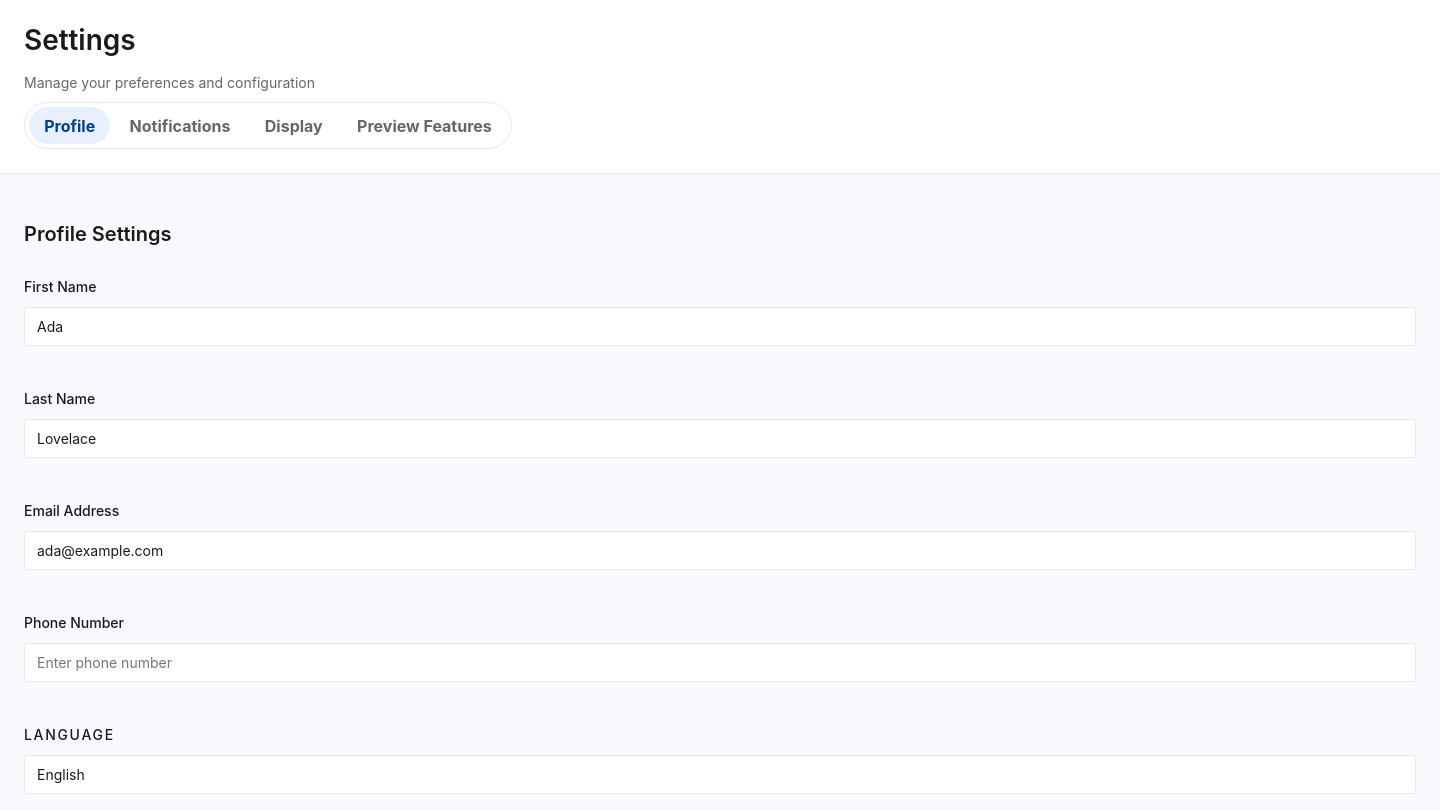
Scenario: Settings header pills › moves settings tabs into the header and switches content via pills
This screenshot has width=1440, height=810.
Expected: the tab "Profile" is shown, [29,107,110,144]
Expected: the heading "Profile Settings" is shown, [24,222,172,246]
What coordinates should you click on to do the following:
click the tab "Notifications"
I would click on:
 (180, 126)
Its box is [114,107,246,144].
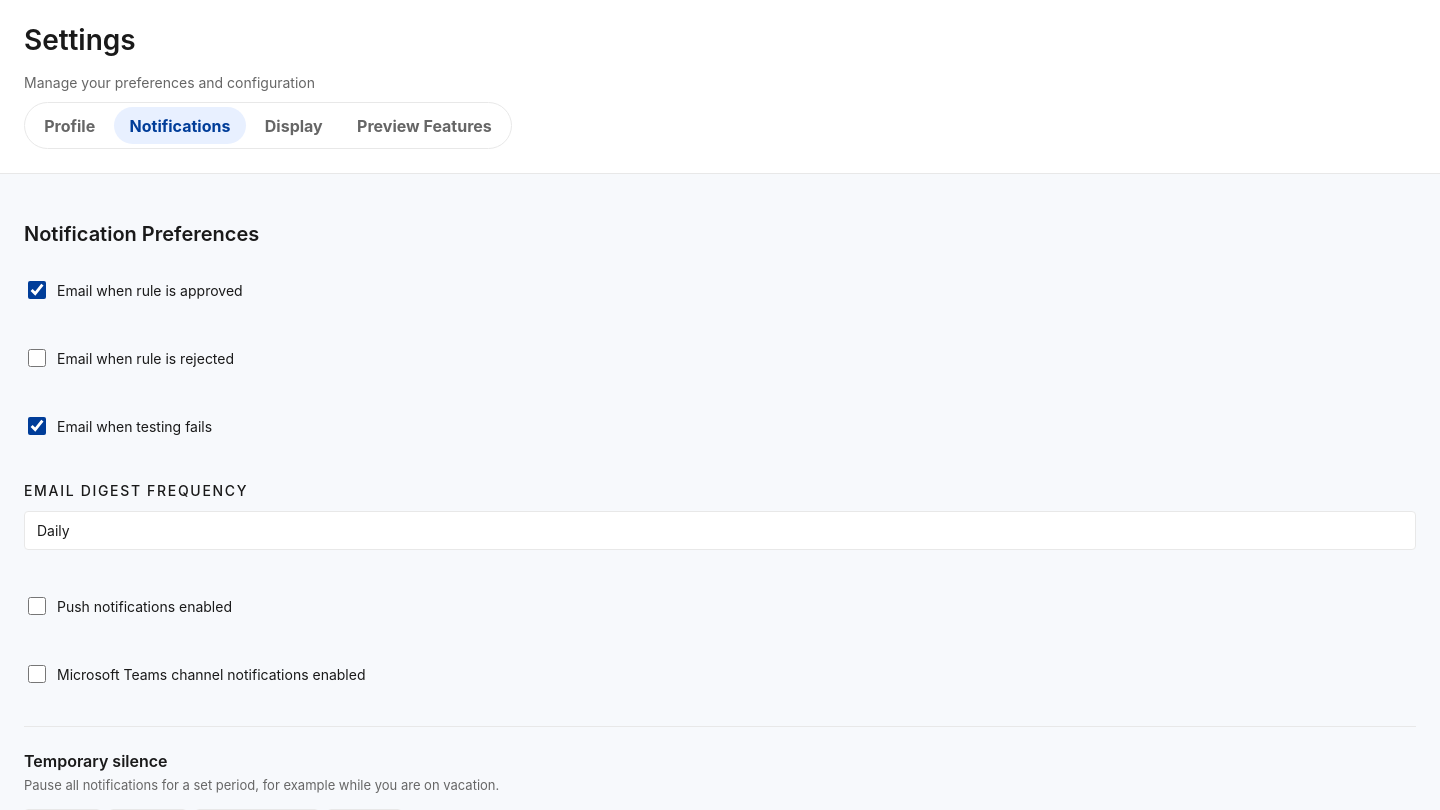
Now the heading "Notification Preferences" is shown, box [24,222,259,246]
